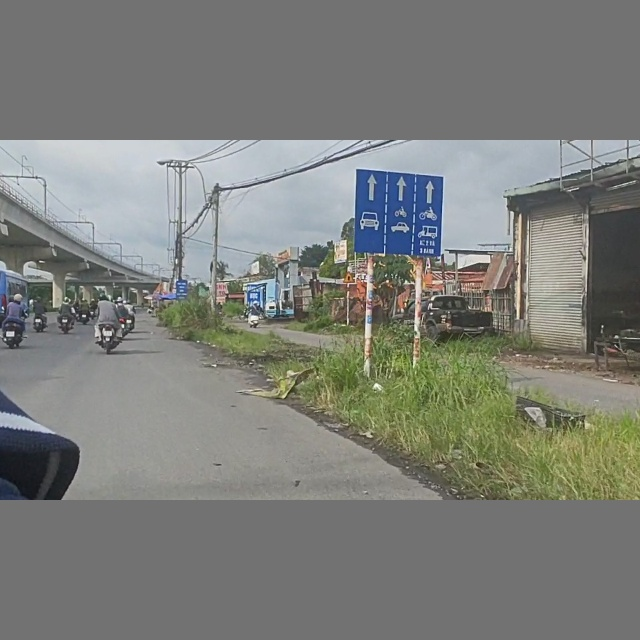R.415a: (353, 165, 447, 259)
W.207: (342, 269, 356, 283)
